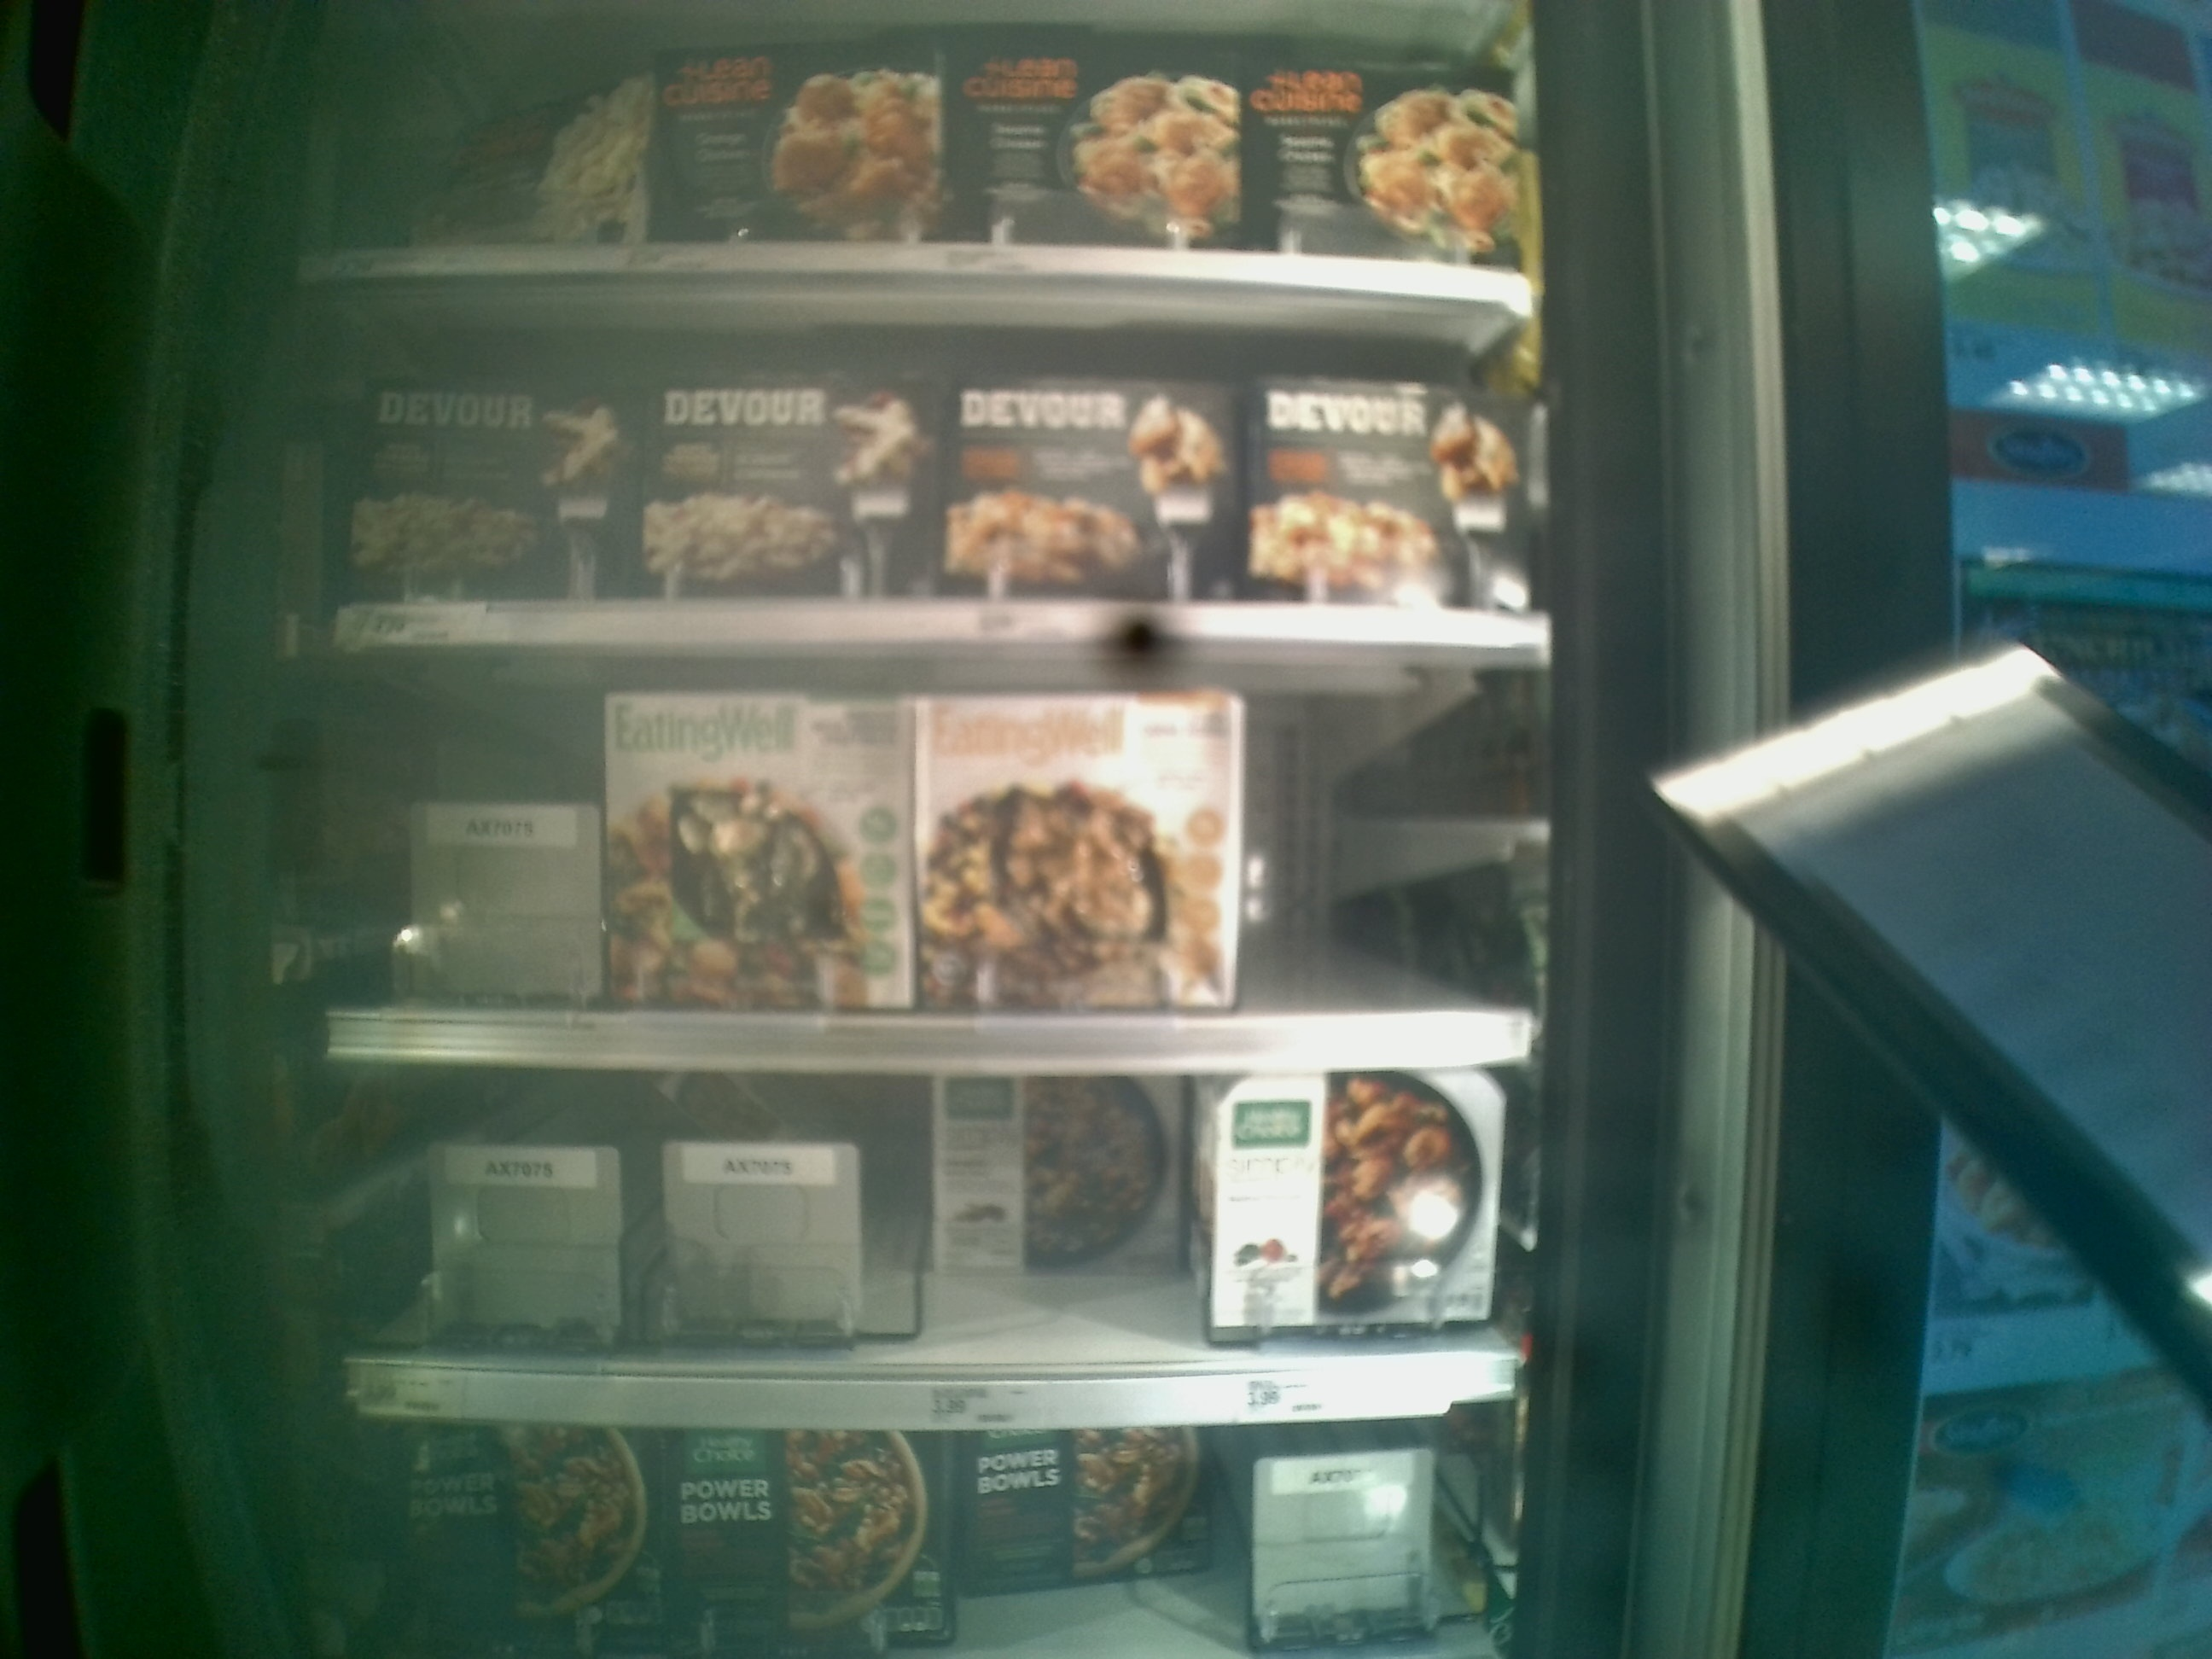shelf: (314, 643, 1559, 1086), (324, 1054, 1538, 1431), (310, 275, 1529, 647)
